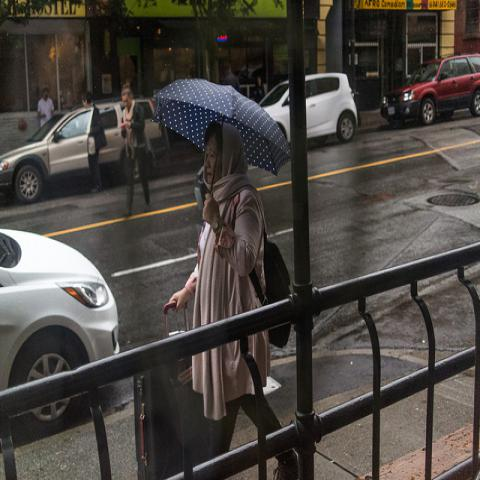car: (1, 224, 121, 434), (0, 93, 168, 206), (257, 71, 358, 145), (381, 53, 479, 129)
